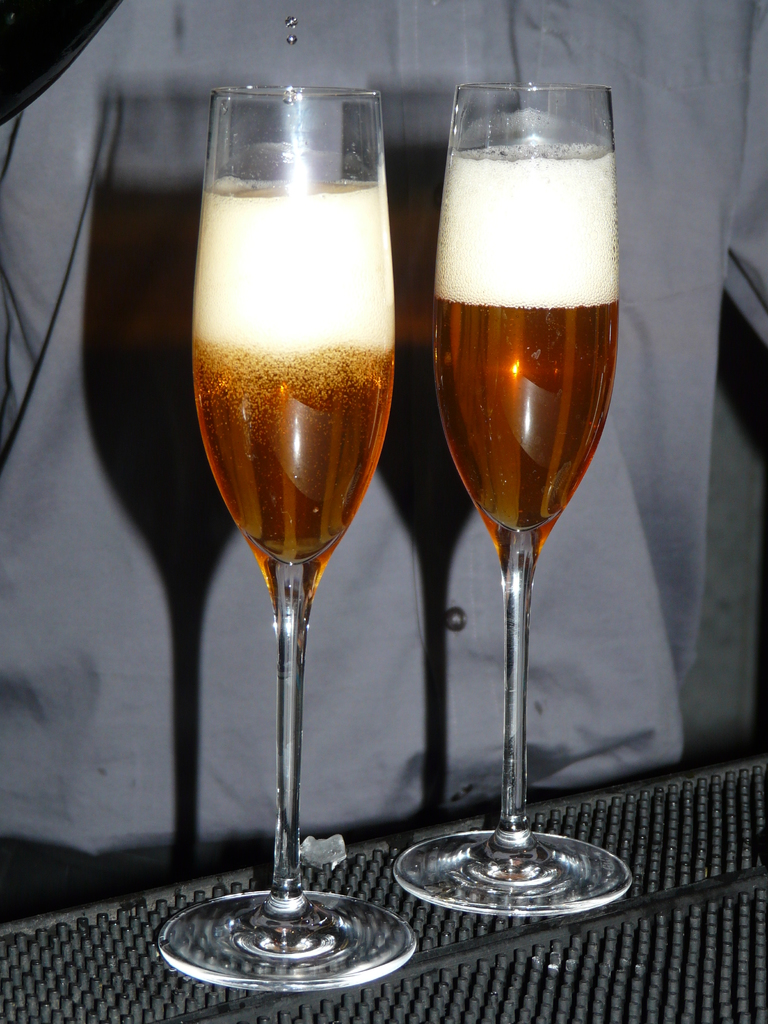Beer: (156, 85, 416, 993), (390, 79, 635, 919)
